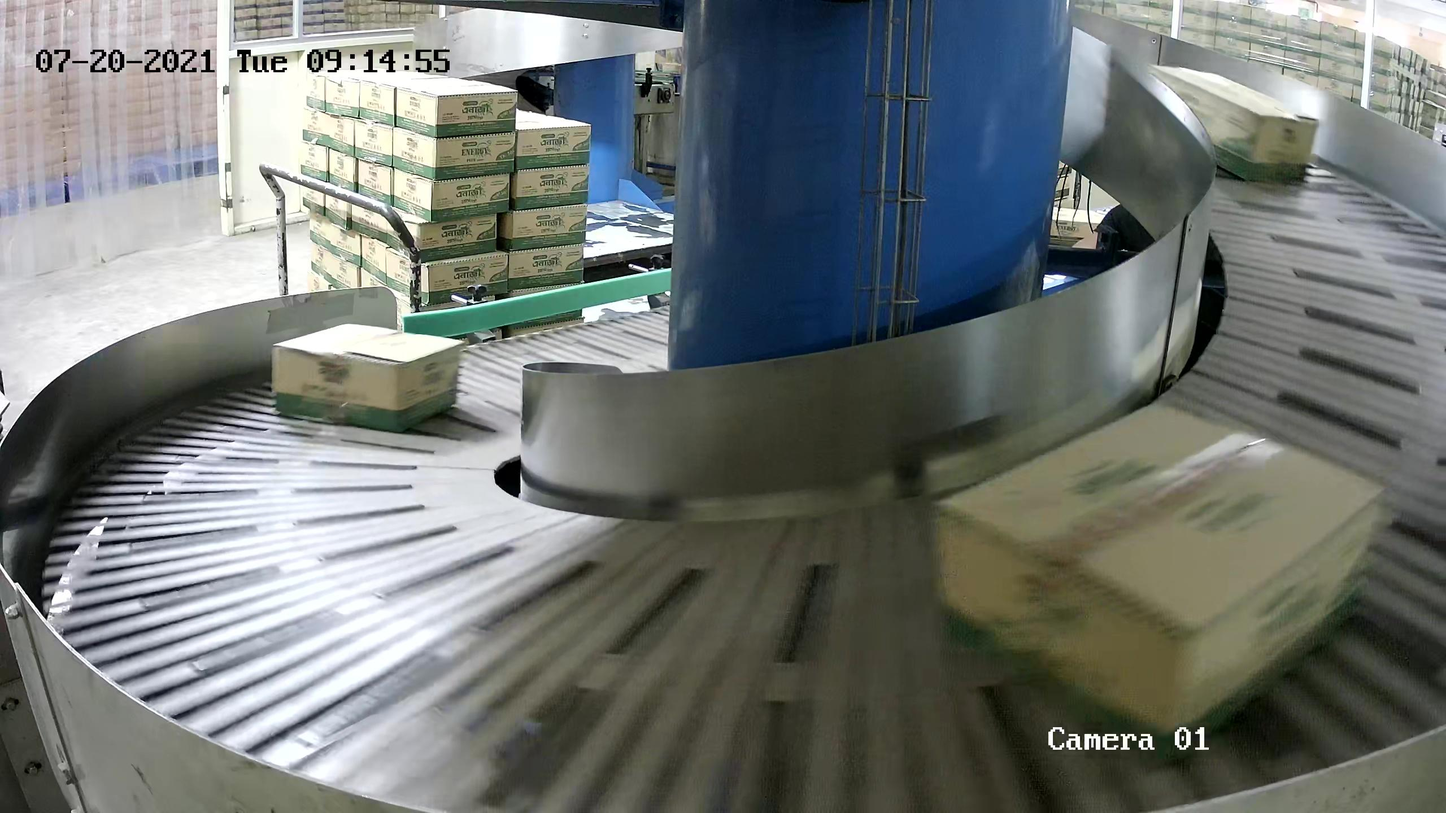Box: (932, 401, 1387, 765), (1144, 62, 1321, 186), (270, 323, 464, 435)
